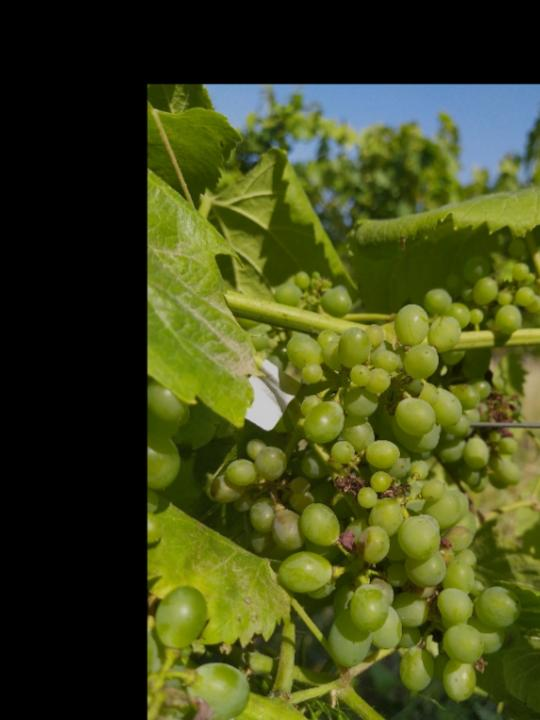grape: (200, 300, 524, 700)
